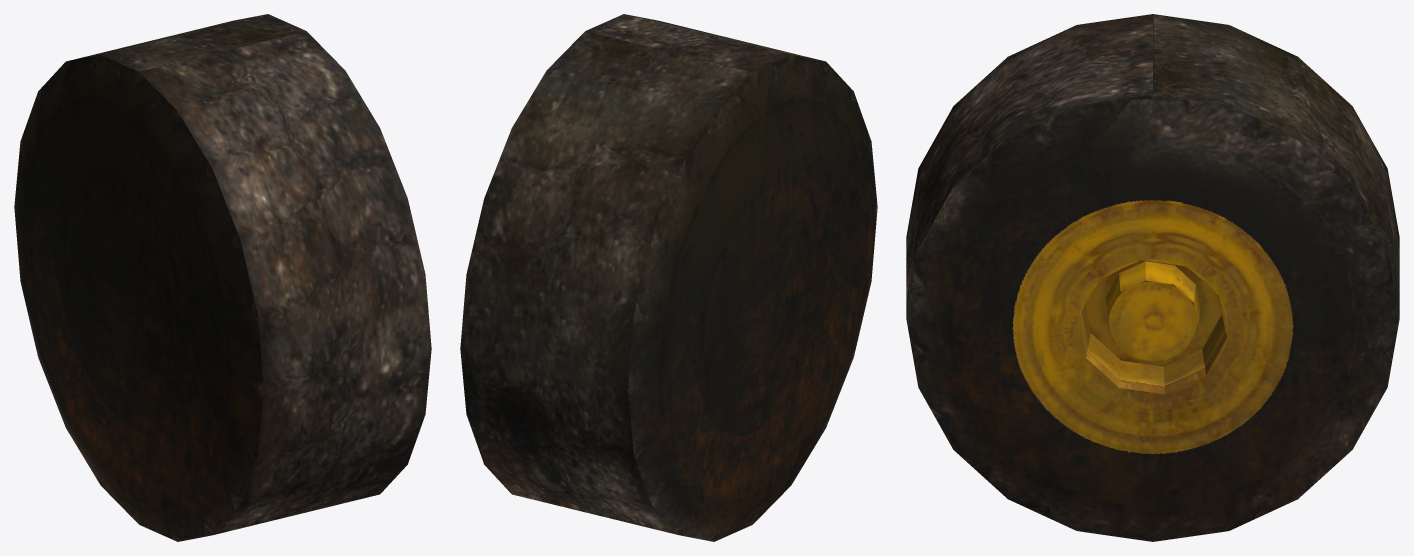
File: Wheel FL crane.fbx
The picture shows the model from 3 angles, left to right: view 1: azimuth 30°, elevation 25°; view 2: azimuth 150°, elevation 25°; view 3: azimuth 270°, elevation 25°; orthographic projection.
Visible parts, largest first — view 1: Wheel FL crane; view 2: Wheel FL crane; view 3: Wheel FL crane.
Part boxes in pixels (x1,y1,x2,y2): Wheel FL crane: (14,14,431,541); Wheel FL crane: (460,14,877,541); Wheel FL crane: (906,14,1399,541).
Size of the model in its own units: 214 by 466 by 466.
